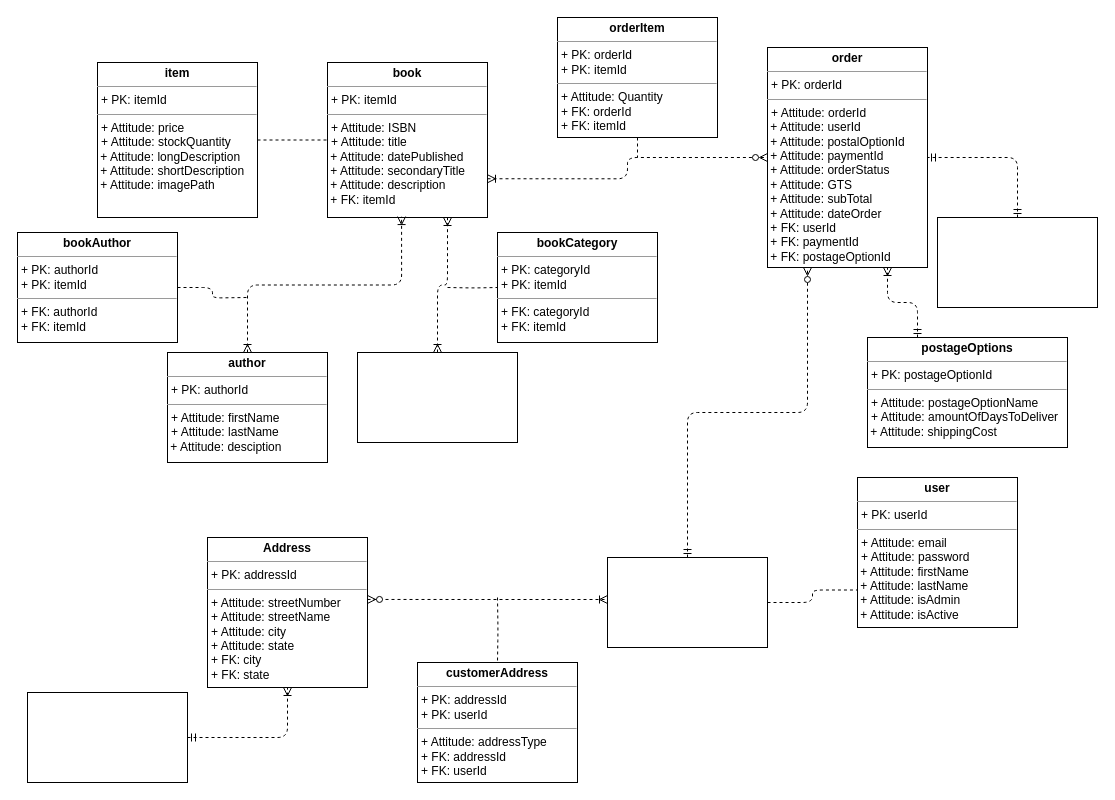
This 1115x800 diagram has some shape labels left out. Here are the shapes that lost their labels. From the top down, the box of each, then its label:
(936, 216, 1098, 308): payment + PK: paymentId + Attitude: datePayed + Attitude: total
(356, 352, 518, 442): category + PK: categoryId + Attitude: name + Attitude: description
(606, 556, 768, 648): Customer + PK: userId + Attitude: phoneNumber + FK: userId
(26, 692, 188, 782): postCode + PK: city + PK: state + Attitude: postCode
